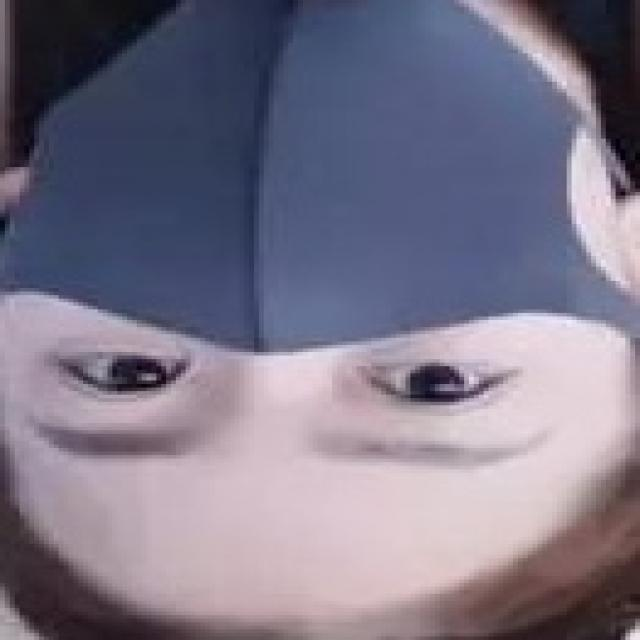mask: (28, 27, 582, 348)
